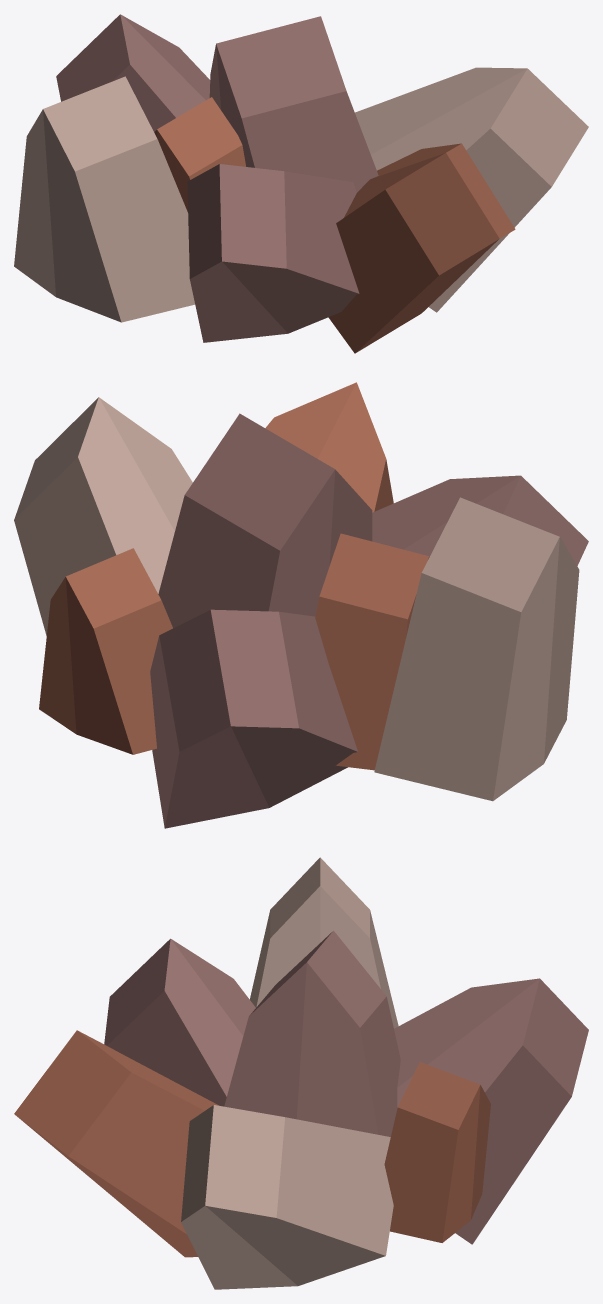
File: rock-type3-04-orange.glb
3 renders of one model, top to bottom at view 1: azimuth 30°, elevation 25°; view 2: azimuth 150°, elevation 25°; view 3: azimuth 270°, elevation 25°, orthographic. The views are drawn at different scales.
Visible parts, largest first — view 1: Rock_Type3_04_mesh; view 2: Rock_Type3_04_mesh; view 3: Rock_Type3_04_mesh.
Boxes of the visible parts, x1,y1,x2,y2 form: Rock_Type3_04_mesh: (14,14,588,353); Rock_Type3_04_mesh: (14,382,588,828); Rock_Type3_04_mesh: (14,857,588,1289).
Size of the model in its own units: 1.29 by 0.7066 by 1.26.
1 material, 1 textured.
